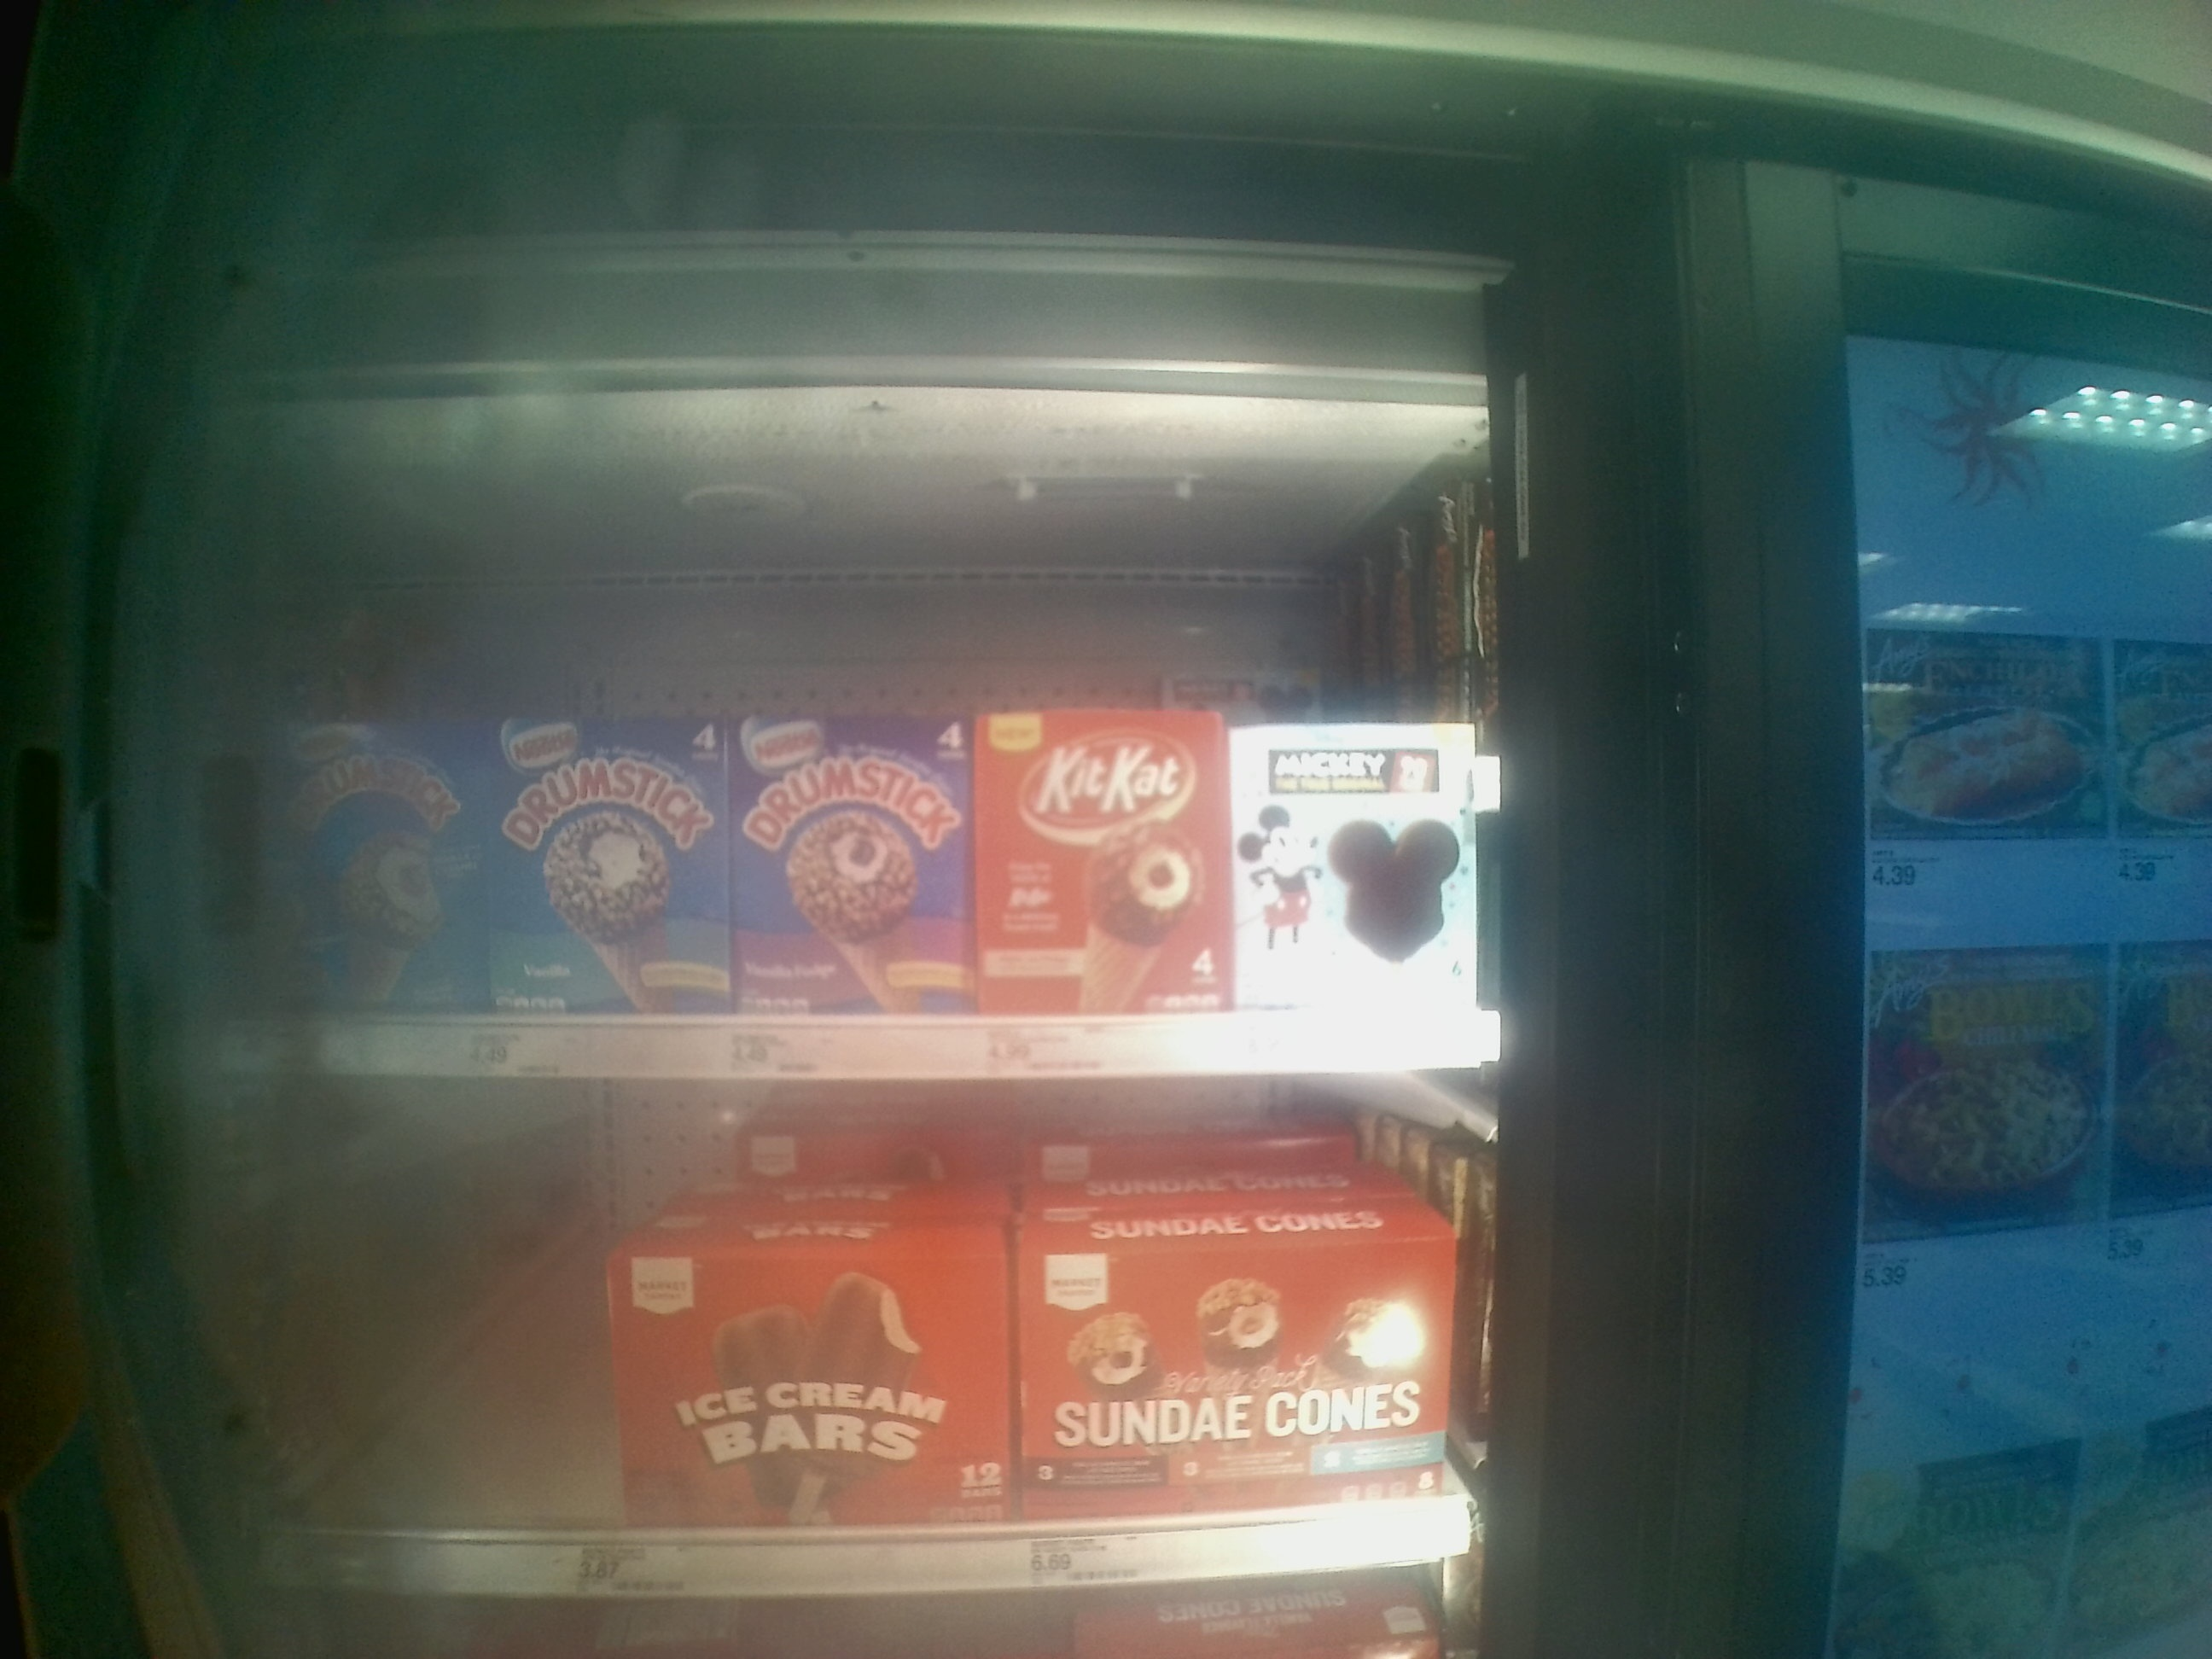frozen-food-shelf: (190, 540, 1521, 1080), (179, 1080, 1521, 1595)
